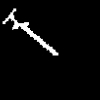double_crochet: (3, 9, 57, 54)
